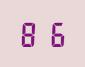eight: (19, 20, 41, 47)
six: (42, 20, 64, 47)
